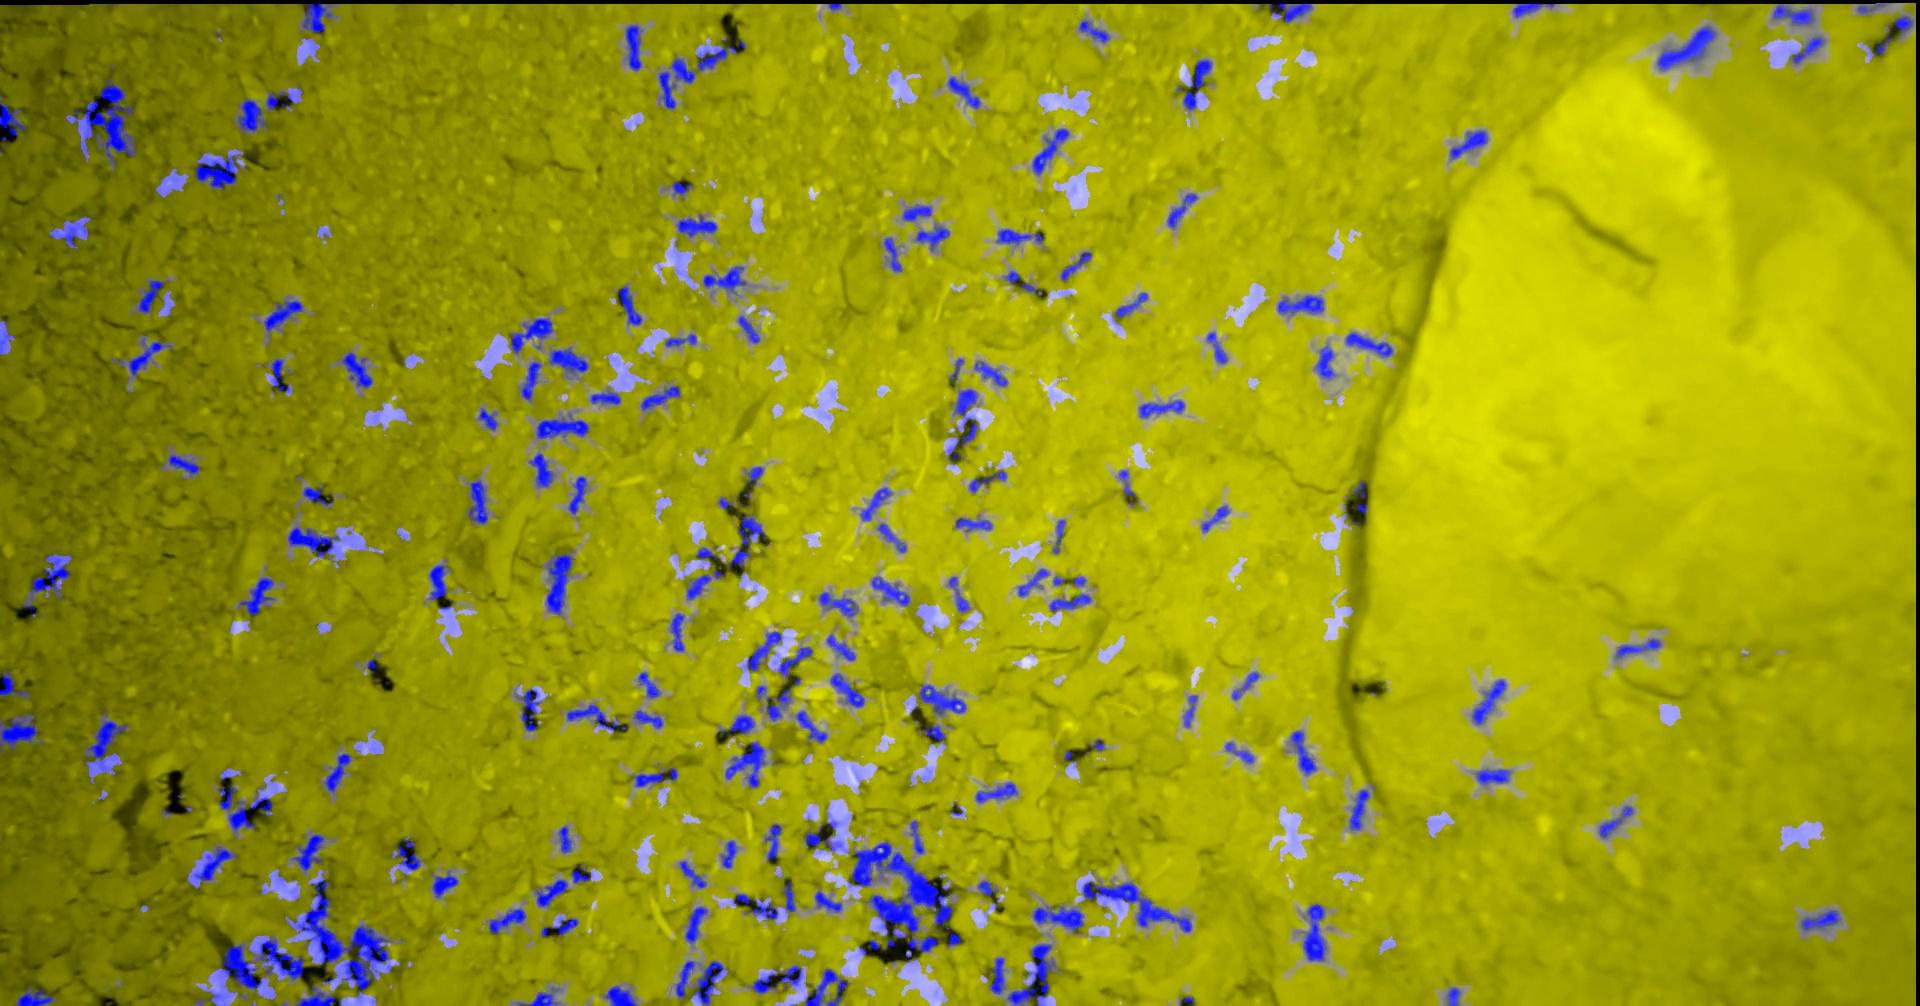ant: (23, 553, 72, 616), (1010, 942, 1057, 1005), (218, 784, 276, 832), (86, 720, 130, 781), (1658, 25, 1717, 69), (116, 338, 171, 377), (259, 937, 305, 979), (731, 514, 767, 568), (222, 944, 263, 989), (1, 713, 44, 753), (728, 742, 766, 788), (568, 704, 629, 732), (1034, 128, 1070, 174), (1872, 15, 1914, 55), (547, 553, 574, 614), (196, 846, 237, 884), (806, 968, 850, 1005), (510, 318, 554, 353), (196, 155, 240, 189), (1473, 680, 1507, 724), (290, 527, 342, 556), (921, 683, 968, 715), (1185, 58, 1213, 109), (695, 960, 726, 1005), (240, 575, 276, 615), (748, 631, 783, 669), (1034, 906, 1084, 932), (538, 414, 590, 438), (1305, 903, 1327, 960), (950, 417, 979, 459), (293, 835, 326, 871), (265, 300, 303, 332), (50, 218, 90, 248), (688, 568, 725, 600), (735, 893, 778, 920), (1, 95, 29, 136), (1347, 332, 1394, 356), (832, 673, 865, 708), (343, 352, 375, 387), (705, 265, 747, 292), (872, 575, 910, 605), (551, 347, 590, 375), (237, 98, 268, 133), (1451, 130, 1490, 158), (949, 76, 982, 108), (780, 647, 814, 677), (1600, 807, 1634, 837), (1293, 730, 1317, 774), (325, 753, 352, 791), (643, 385, 681, 410), (862, 486, 891, 520), (1170, 193, 1197, 227), (518, 688, 541, 730), (296, 984, 343, 1005), (698, 46, 738, 70), (490, 908, 527, 934), (797, 711, 828, 742), (820, 592, 858, 616), (469, 479, 489, 523), (620, 285, 643, 324), (303, 3, 334, 32), (877, 523, 908, 553), (1006, 271, 1043, 295), (806, 826, 843, 850), (1793, 36, 1825, 64), (1062, 251, 1093, 279), (1018, 568, 1050, 596), (138, 279, 165, 312), (1116, 292, 1149, 319), (536, 879, 569, 906), (679, 213, 717, 236), (917, 225, 951, 250), (1617, 638, 1662, 657), (686, 906, 709, 942), (530, 453, 555, 486), (1270, 3, 1313, 22), (970, 470, 1008, 492), (636, 767, 679, 786), (1, 669, 30, 697), (1279, 295, 1324, 312), (977, 361, 1008, 386), (1775, 4, 1815, 24), (1802, 909, 1841, 930), (977, 782, 1018, 801), (1233, 671, 1261, 699), (522, 361, 542, 399), (717, 715, 756, 735), (1351, 789, 1370, 829), (396, 838, 422, 869), (17, 986, 57, 1005), (768, 688, 792, 720), (828, 634, 856, 661), (1142, 400, 1186, 417), (677, 960, 696, 998), (950, 575, 970, 611), (1051, 593, 1092, 611), (519, 987, 560, 1005), (998, 229, 1045, 244), (1203, 506, 1230, 531), (681, 861, 709, 887), (543, 917, 580, 936), (627, 24, 643, 70), (1079, 20, 1111, 42), (169, 453, 201, 475), (303, 484, 335, 506), (430, 564, 450, 600), (433, 870, 458, 897), (570, 476, 588, 513), (272, 358, 291, 392), (1208, 332, 1228, 363), (607, 984, 639, 1005), (766, 823, 783, 859), (672, 58, 697, 83), (956, 389, 979, 415), (660, 71, 677, 108), (739, 315, 761, 343), (1227, 742, 1255, 763), (885, 238, 903, 271), (1514, 3, 1556, 17), (639, 672, 662, 697), (817, 890, 843, 912), (1318, 345, 1336, 377), (267, 91, 296, 111), (1, 319, 17, 354), (992, 956, 1006, 995), (1477, 768, 1511, 784), (781, 965, 803, 989), (635, 710, 664, 728), (753, 973, 778, 993), (957, 517, 993, 531), (672, 614, 684, 652), (919, 725, 947, 742), (480, 406, 499, 431), (697, 547, 723, 565), (904, 205, 933, 220), (723, 840, 738, 868), (783, 880, 797, 911), (912, 821, 924, 854), (667, 333, 698, 345), (592, 391, 622, 404), (1054, 520, 1065, 553), (1186, 695, 1197, 727), (571, 864, 592, 882), (951, 358, 965, 384), (560, 826, 573, 852), (749, 466, 764, 486), (674, 180, 693, 196), (979, 880, 998, 895), (196, 993, 221, 1005), (1859, 3, 1886, 13), (1125, 486, 1139, 504), (1448, 987, 1462, 1005), (1354, 481, 1368, 498), (949, 931, 963, 946)
